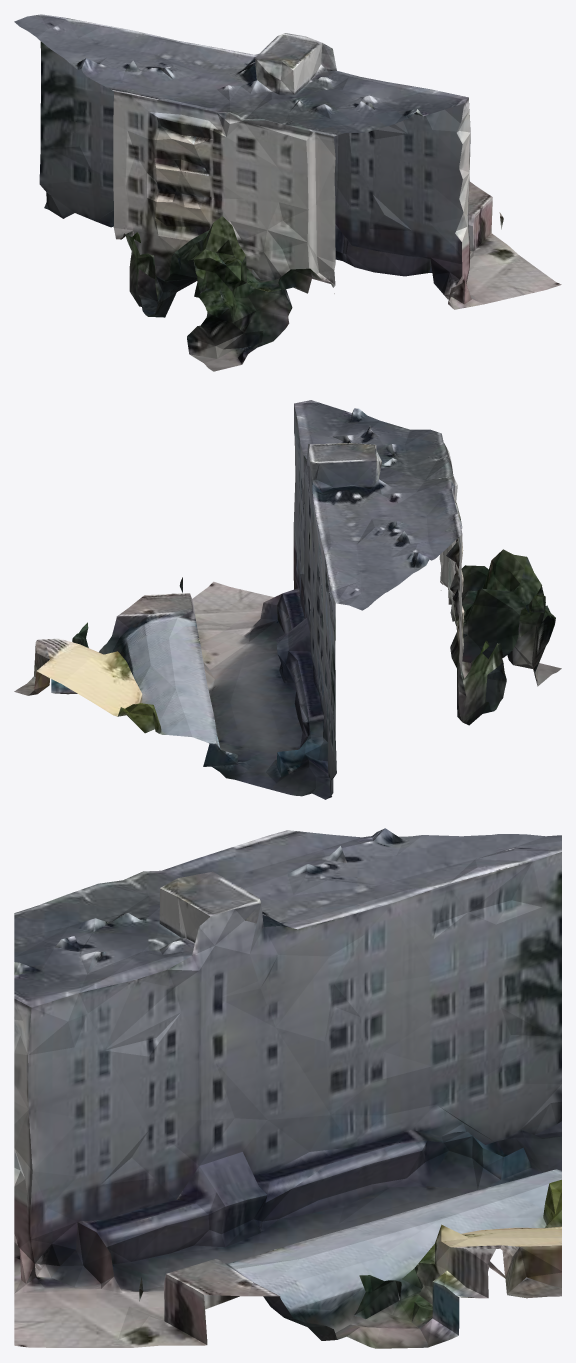
The model's file is helsinki-3-0.glb.
The picture shows the model from 3 angles, top to bottom: view 1: azimuth 30°, elevation 25°; view 2: azimuth 150°, elevation 25°; view 3: azimuth 270°, elevation 25°; orthographic projection. The views are drawn at different scales.
Bounding box in the file's own units: 31.75 × 20.5 × 31.51.
Materials: 1 (1 with a texture image).
